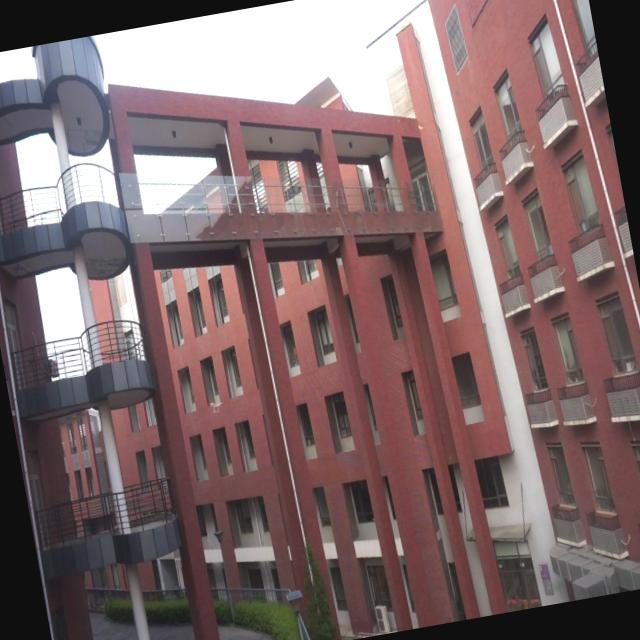drone: (206, 395, 223, 414)
